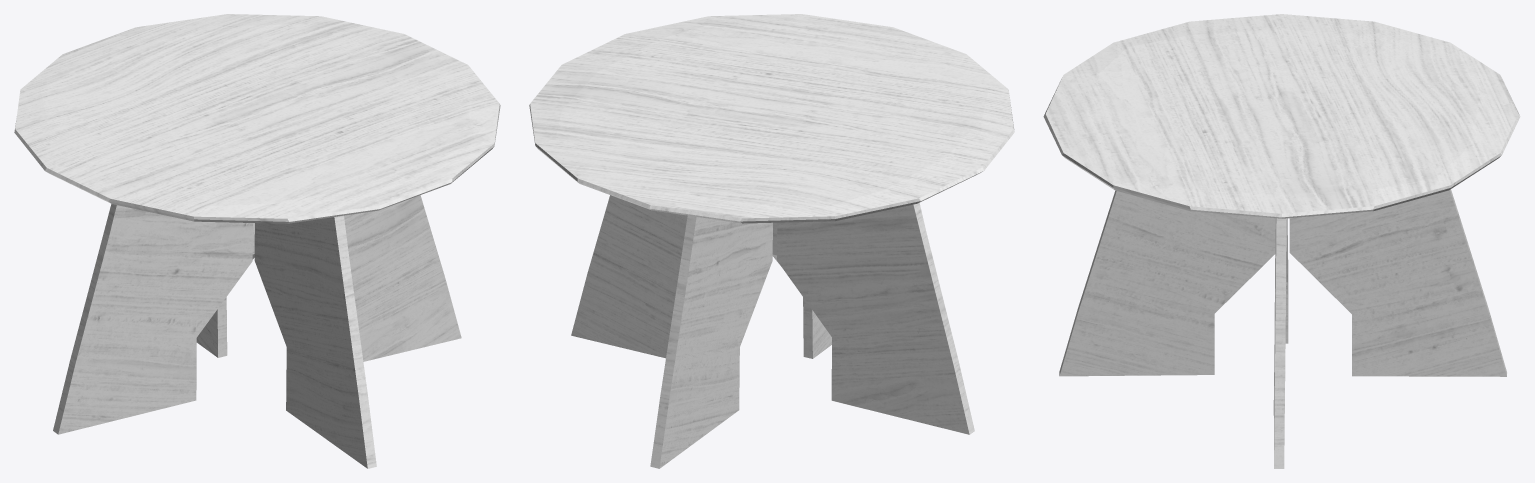
Rendered from MesaLobby.fbx.
3 views of the same model, side by side, from view 1: azimuth 30°, elevation 25°; view 2: azimuth 150°, elevation 25°; view 3: azimuth 270°, elevation 25° (orthographic). The views are drawn at different scales.
Parts seen in each view (by area): view 1: Plane.001, Plane; view 2: Plane.001, Plane; view 3: Plane.001, Plane.
Boxes of the visible parts, x1,y1,x2,y2 form: Plane.001: [14, 14, 500, 223]; Plane: [53, 195, 461, 468]; Plane.001: [529, 14, 1014, 223]; Plane: [571, 195, 974, 468]; Plane.001: [1043, 14, 1520, 218]; Plane: [1059, 189, 1506, 468].
Size of the model in its own units: 530 by 322 by 530.
2 materials, 2 textured.
